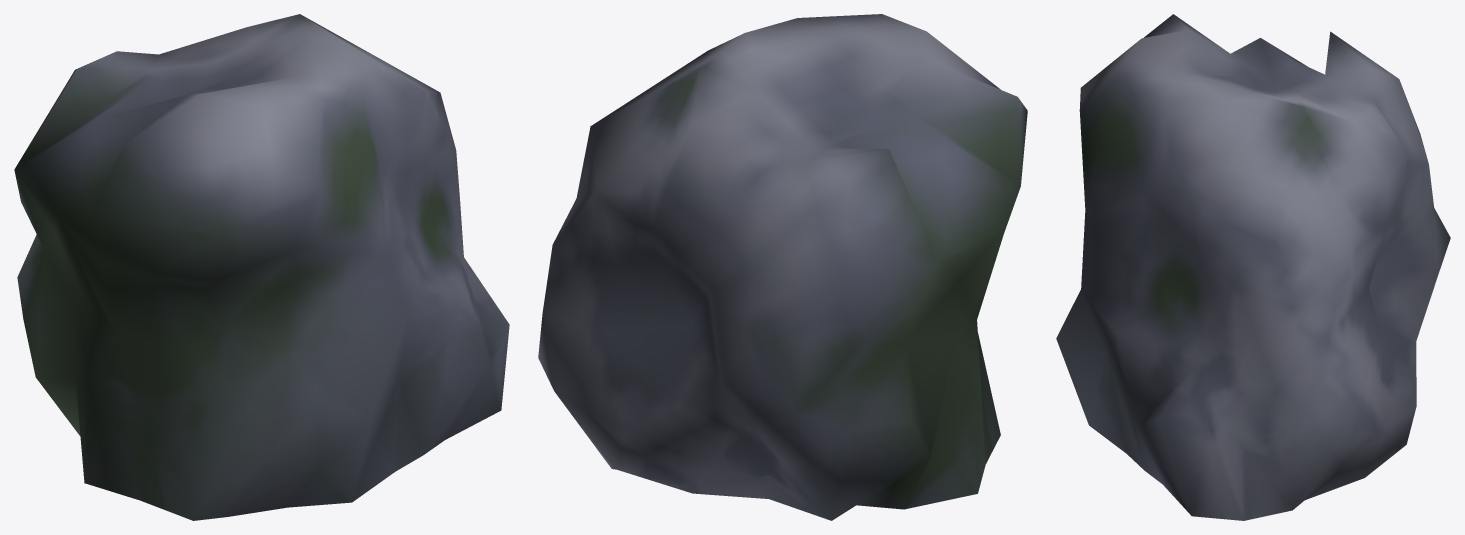
Rendered from rock4.fbx.
The picture shows the model from 3 angles, left to right: view 1: azimuth 30°, elevation 25°; view 2: azimuth 150°, elevation 25°; view 3: azimuth 270°, elevation 25°; orthographic projection. The views are drawn at different scales.
Parts seen in each view (by area): view 1: rock.002; view 2: rock.002; view 3: rock.002.
Part boxes in pixels (x1,y1,x2,y2): rock.002: (14,14,509,520); rock.002: (538,14,1027,520); rock.002: (1056,14,1450,520).
Size of the model in its own units: 0.3196 by 0.2819 by 0.2837.
